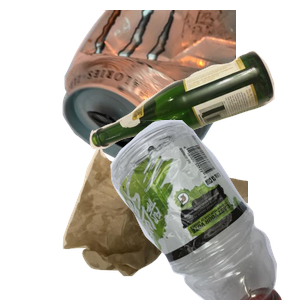glass: (87, 48, 300, 190)
metal: (60, 10, 300, 175)
plastic: (73, 120, 300, 300)
trash: (60, 142, 300, 300)
